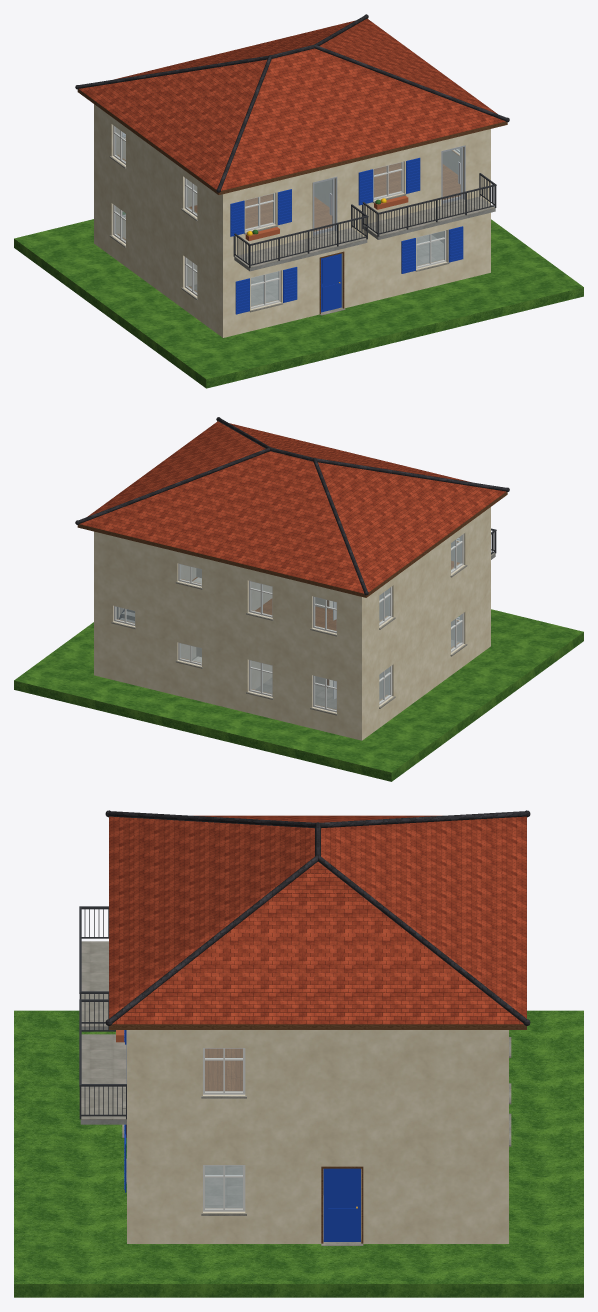
Rendered from b_med_villa.gltf.
3 views of the same model, one above another, from view 1: azimuth 30°, elevation 25°; view 2: azimuth 150°, elevation 25°; view 3: azimuth 270°, elevation 25° (orthographic). The views are drawn at different scales.
Visible parts, largest first — view 1: S_med_villa, D_med_villa_F1_S2_Door0, D_med_villa_F2_S1_Door0, D_med_villa_F2_S3_Door0; view 2: S_med_villa; view 3: S_med_villa, D_med_villa_F1_E1_Door0.
Boxes of the visible parts, bbox=[...] form: S_med_villa: bbox=[14, 14, 583, 388]; D_med_villa_F1_S2_Door0: bbox=[321, 253, 341, 312]; D_med_villa_F2_S1_Door0: bbox=[314, 178, 334, 234]; D_med_villa_F2_S3_Door0: bbox=[442, 147, 462, 203]; S_med_villa: bbox=[14, 417, 583, 781]; S_med_villa: bbox=[14, 810, 583, 1297]; D_med_villa_F1_E1_Door0: bbox=[323, 1168, 360, 1241].
Bounding box in the file's own units: 17 × 9.36 × 15.
Materials: 25 (13 with a texture image).
